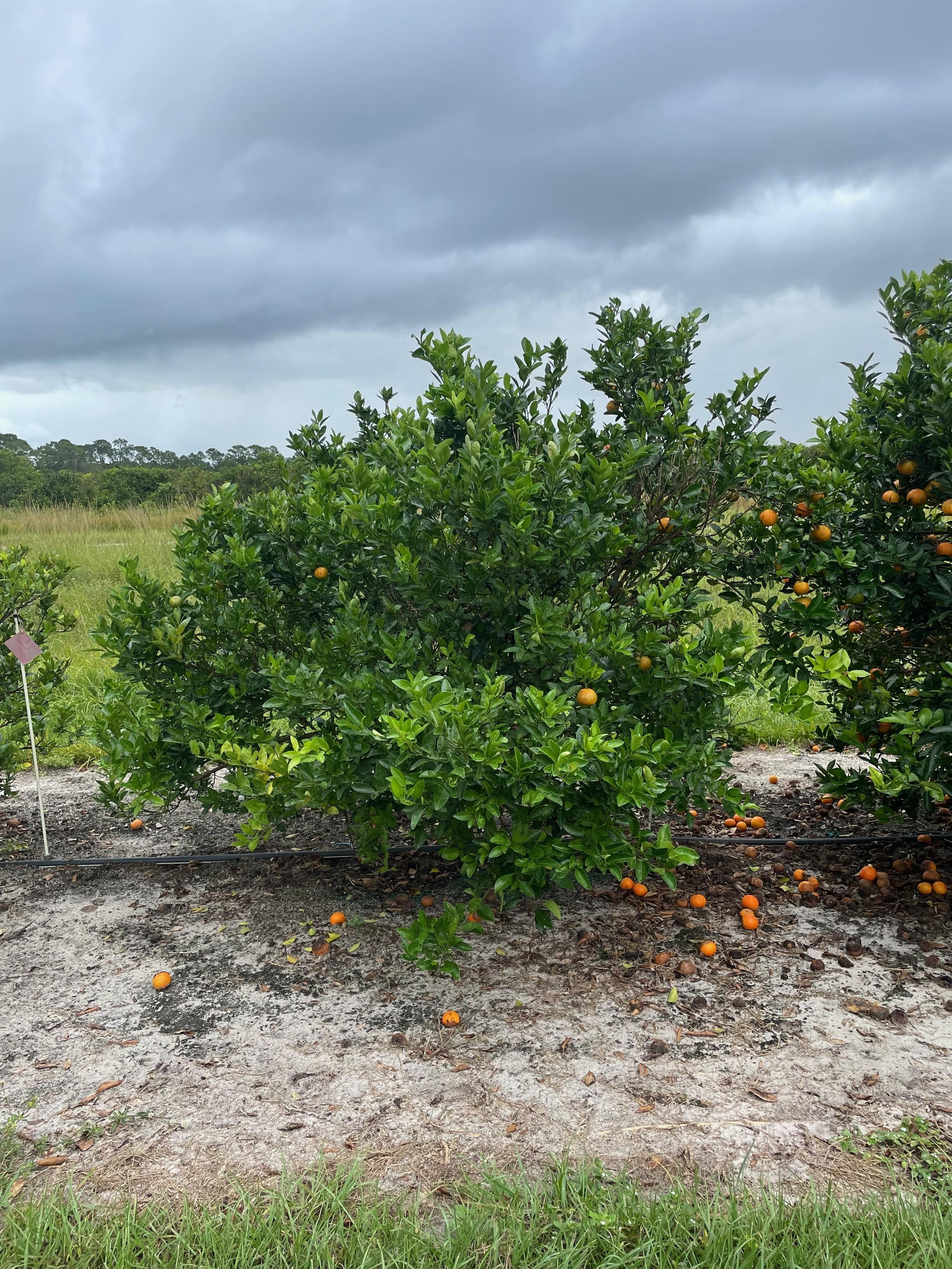fruit_on_ground: (575, 685, 599, 708), (809, 523, 833, 544), (896, 456, 919, 477), (905, 487, 928, 507), (633, 654, 653, 673), (656, 516, 676, 535), (923, 480, 944, 498), (934, 540, 952, 561), (759, 508, 778, 527), (792, 595, 813, 612), (875, 717, 894, 735), (881, 488, 901, 505), (794, 501, 813, 518), (792, 578, 811, 595), (845, 590, 865, 606), (847, 619, 866, 635), (808, 488, 826, 504), (868, 666, 886, 682), (889, 559, 906, 575), (313, 565, 329, 581), (167, 594, 184, 609), (851, 729, 866, 745), (724, 488, 740, 503), (940, 497, 952, 516), (605, 399, 620, 414)
fruit_on_tree: (151, 969, 172, 990), (649, 1035, 670, 1054), (310, 937, 331, 956), (440, 1009, 462, 1027), (740, 911, 760, 930), (920, 857, 939, 876), (676, 958, 696, 976), (481, 887, 500, 905), (699, 939, 718, 957), (740, 893, 759, 911), (858, 863, 877, 881), (462, 909, 483, 925), (688, 891, 707, 908), (328, 909, 347, 926), (653, 949, 671, 966), (923, 953, 941, 969), (419, 893, 436, 909), (932, 879, 949, 895), (892, 857, 910, 872), (798, 881, 817, 895), (922, 868, 941, 882), (619, 875, 635, 891), (633, 881, 649, 897), (809, 956, 826, 971), (804, 875, 821, 890), (128, 816, 145, 831), (876, 872, 891, 888), (917, 880, 933, 895), (751, 815, 767, 830), (749, 874, 765, 888), (716, 737, 731, 751), (744, 844, 759, 858), (735, 818, 750, 832), (917, 831, 933, 844), (731, 813, 748, 825), (819, 792, 835, 804), (721, 815, 735, 828), (792, 867, 807, 879), (772, 860, 785, 873), (766, 773, 780, 784), (785, 838, 797, 850), (685, 806, 698, 817), (782, 788, 794, 799), (810, 742, 821, 752)
